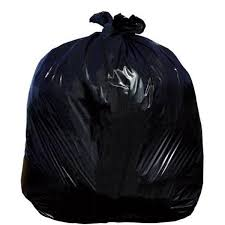Trash: (7, 2, 215, 224)
